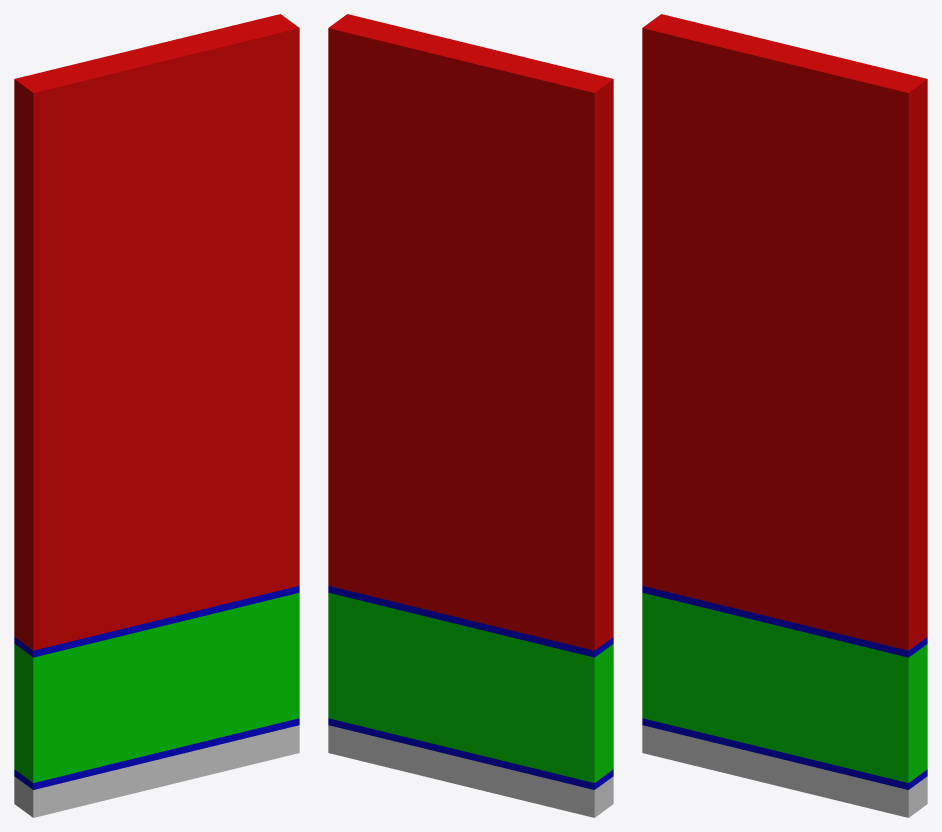
The model's file is SM_IntWall2m.fbx.
3 views of the same model, side by side, from view 1: azimuth 30°, elevation 25°; view 2: azimuth 150°, elevation 25°; view 3: azimuth 330°, elevation 25° (orthographic).
Parts seen in each view (by area): view 1: SM_IntWall2m; view 2: SM_IntWall2m; view 3: SM_IntWall2m.
Part boxes in pixels (bbox=[...]): SM_IntWall2m: bbox=[14, 14, 299, 817]; SM_IntWall2m: bbox=[328, 14, 613, 817]; SM_IntWall2m: bbox=[642, 14, 927, 817].
Bounding box in the file's own units: 200 × 520 × 25.
